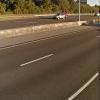Tree: (21, 1, 40, 15)
